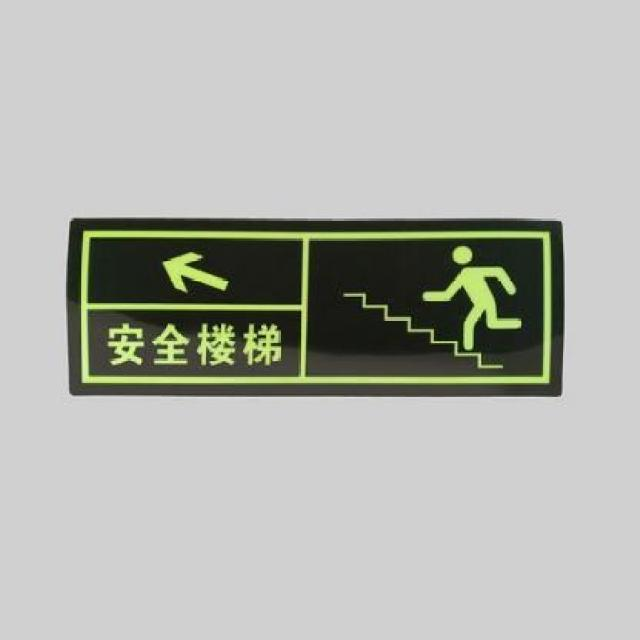exit_sign: (72, 222, 576, 402)
